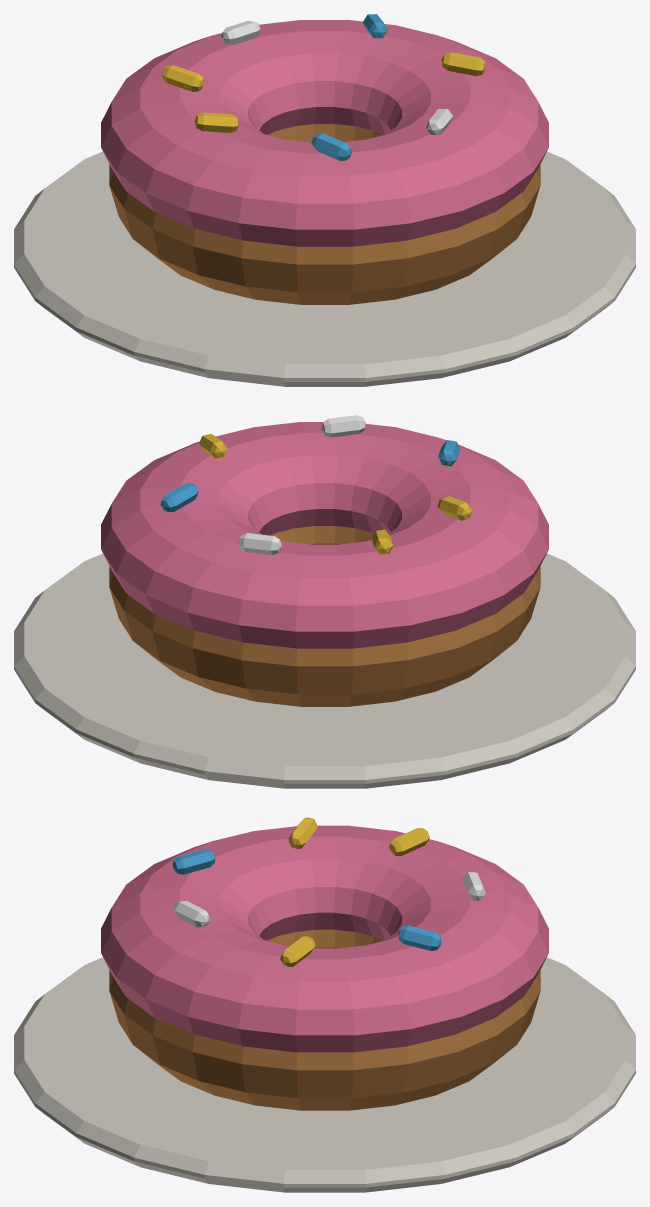
Rendered from doughnut.glb.
3 renders of one model, top to bottom at view 1: azimuth 30°, elevation 25°; view 2: azimuth 150°, elevation 25°; view 3: azimuth 270°, elevation 25°, orthographic.
Visible parts, largest first — view 1: icing, plate, dough, sprinkle_d, sprinkle_a, sprinkle_g, sprinkle_b, sprinkle_f; view 2: icing, plate, dough, sprinkle_c, sprinkle_f, sprinkle_e, sprinkle_a; view 3: icing, plate, dough, sprinkle_e, sprinkle_b, sprinkle_g, sprinkle_c, sprinkle_d, sprinkle_a.
Boxes of the visible parts, x1,y1,x2,y2 form: icing: [101, 20, 548, 246]; plate: [14, 151, 635, 386]; dough: [109, 124, 540, 304]; sprinkle_d: [441, 52, 485, 76]; sprinkle_a: [194, 112, 239, 132]; sprinkle_g: [162, 65, 203, 91]; sprinkle_b: [311, 133, 351, 160]; sprinkle_f: [221, 20, 260, 45]; icing: [101, 422, 548, 648]; plate: [14, 553, 635, 788]; dough: [109, 526, 540, 706]; sprinkle_c: [321, 415, 365, 437]; sprinkle_f: [238, 533, 281, 554]; sprinkle_e: [160, 483, 198, 512]; sprinkle_a: [437, 496, 472, 520]; icing: [101, 825, 548, 1052]; plate: [14, 957, 635, 1192]; dough: [109, 930, 540, 1110]; sprinkle_e: [398, 925, 441, 950]; sprinkle_b: [172, 849, 215, 874]; sprinkle_g: [389, 828, 429, 856]; sprinkle_c: [173, 900, 210, 927]; sprinkle_d: [280, 936, 315, 966]; sprinkle_a: [288, 817, 317, 848].
Size of the model in its own units: 1.5 by 0.4912 by 1.5.
